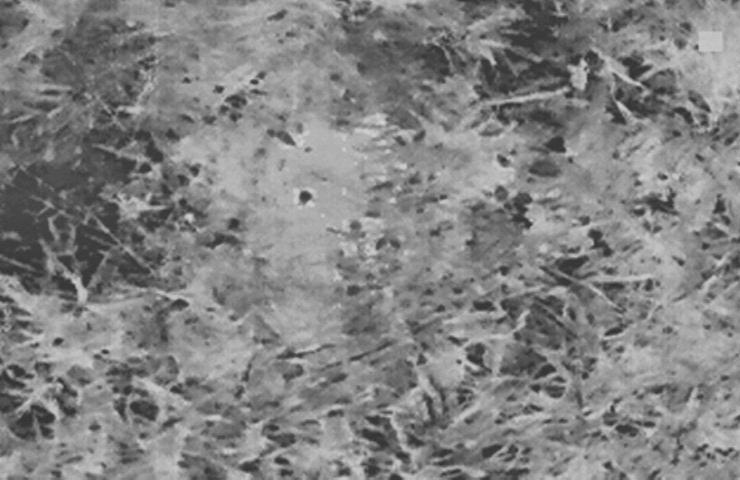landmines: (250, 124, 391, 256)
